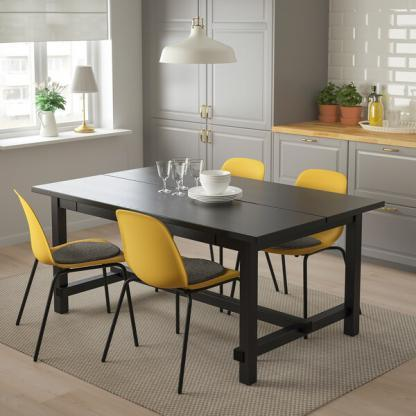chair: (119, 209, 238, 391), (3, 185, 119, 344), (258, 167, 353, 324), (202, 148, 269, 264)
light: (147, 0, 248, 71), (65, 54, 104, 133)
table: (29, 165, 388, 389)
